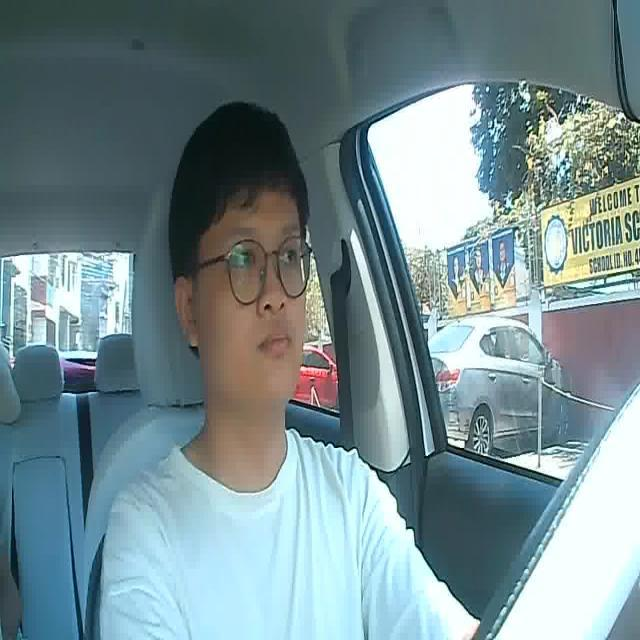Attentive: (170, 94, 317, 416)
Eye-Open: (229, 248, 261, 274), (278, 245, 302, 271)
Normal: (266, 330, 302, 365)
